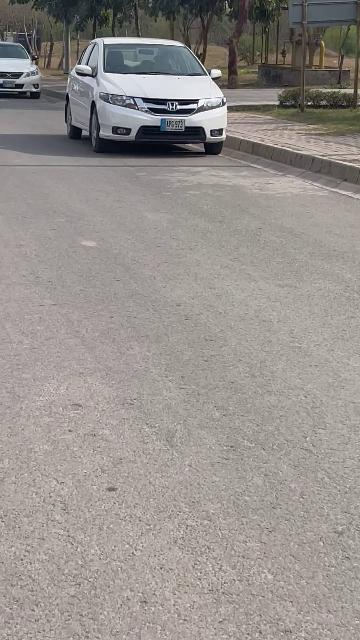plate: (160, 118, 185, 131)
